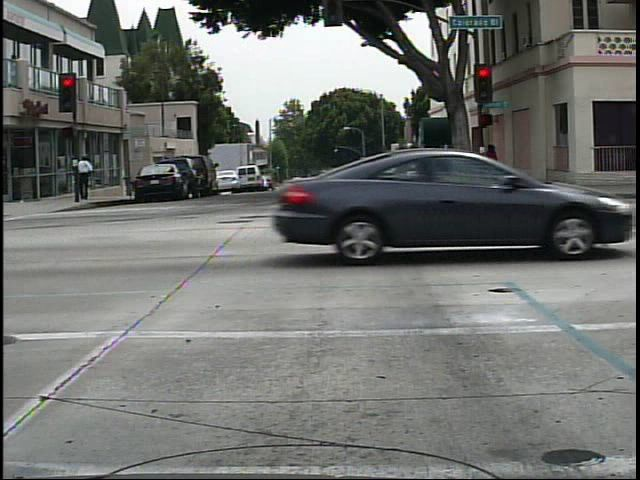person: (79, 149, 97, 201), (483, 139, 507, 168)
